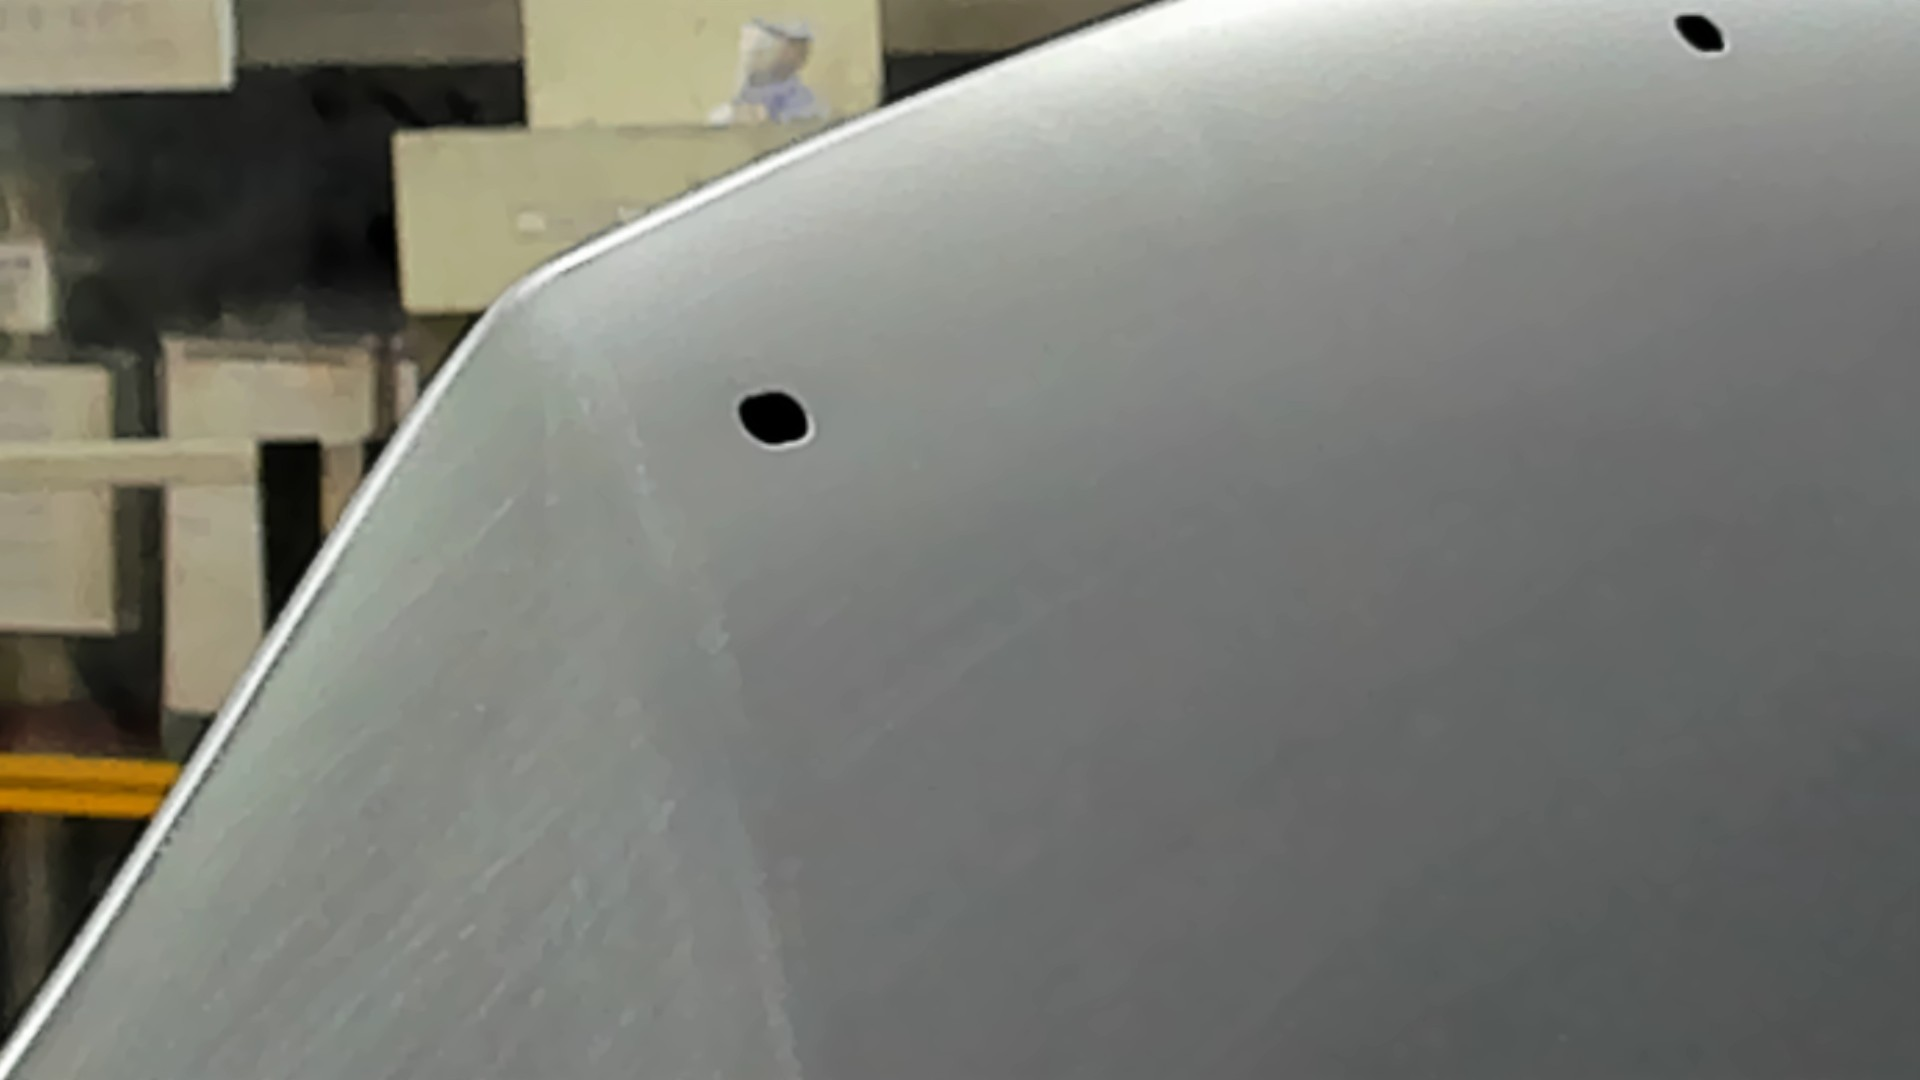amorfo: (732, 382, 818, 451), (1664, 9, 1735, 63)
